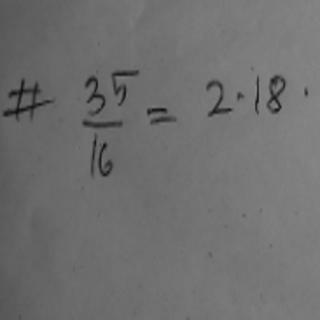.: (235, 86, 247, 104), (302, 85, 313, 102)
1: (85, 133, 99, 178), (254, 72, 264, 113)
2: (207, 77, 230, 119)
3: (84, 75, 107, 116)
5: (107, 69, 140, 107)
6: (98, 143, 118, 181)
8: (266, 71, 288, 116)
